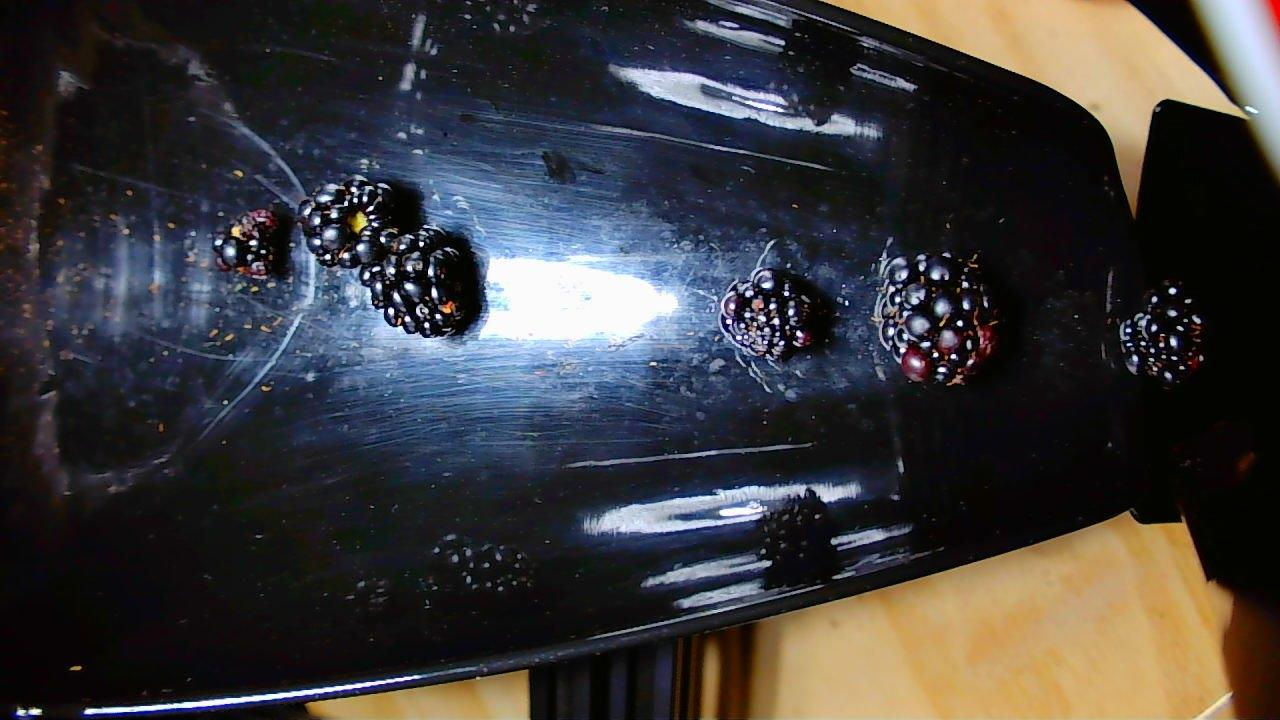berry: (872, 248, 996, 388), (356, 229, 480, 334), (299, 172, 416, 266), (720, 262, 826, 360), (1115, 287, 1200, 381), (210, 203, 290, 279)
